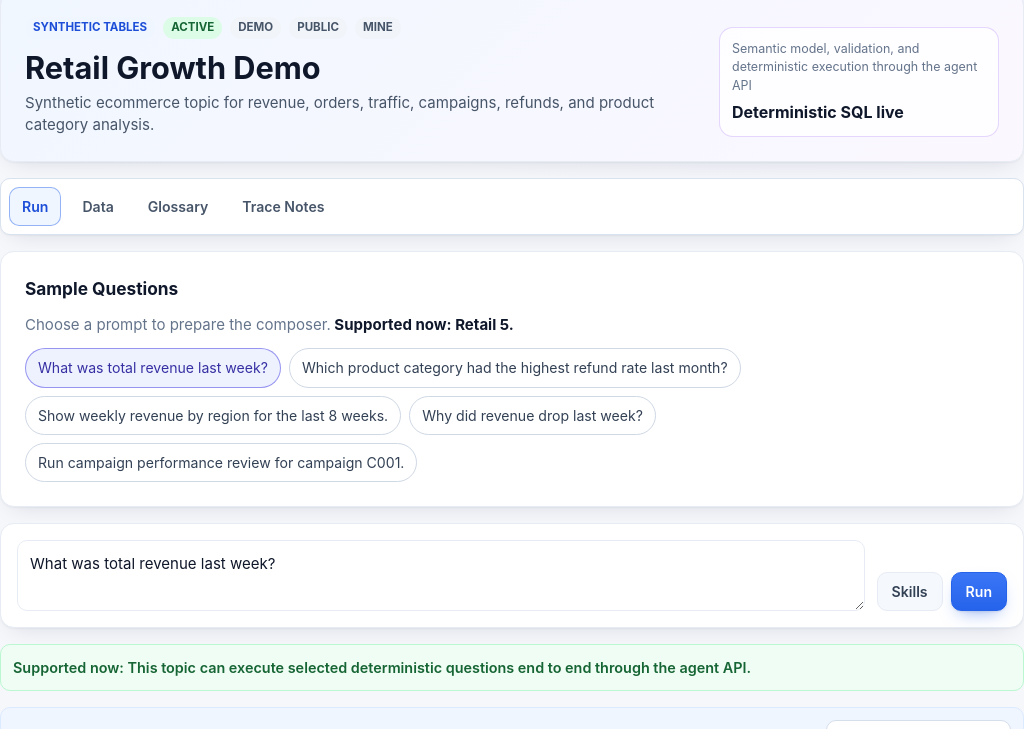
Test: TopicDetailPage › does not retain a result when trailing stream data invalidates completion
This screenshot has width=1024, height=729.
What coordinates should you click on to do the following:
click the button "Run"
I would click on:
 (979, 591)
Its box is [951, 572, 1007, 611].
(page scrolled)
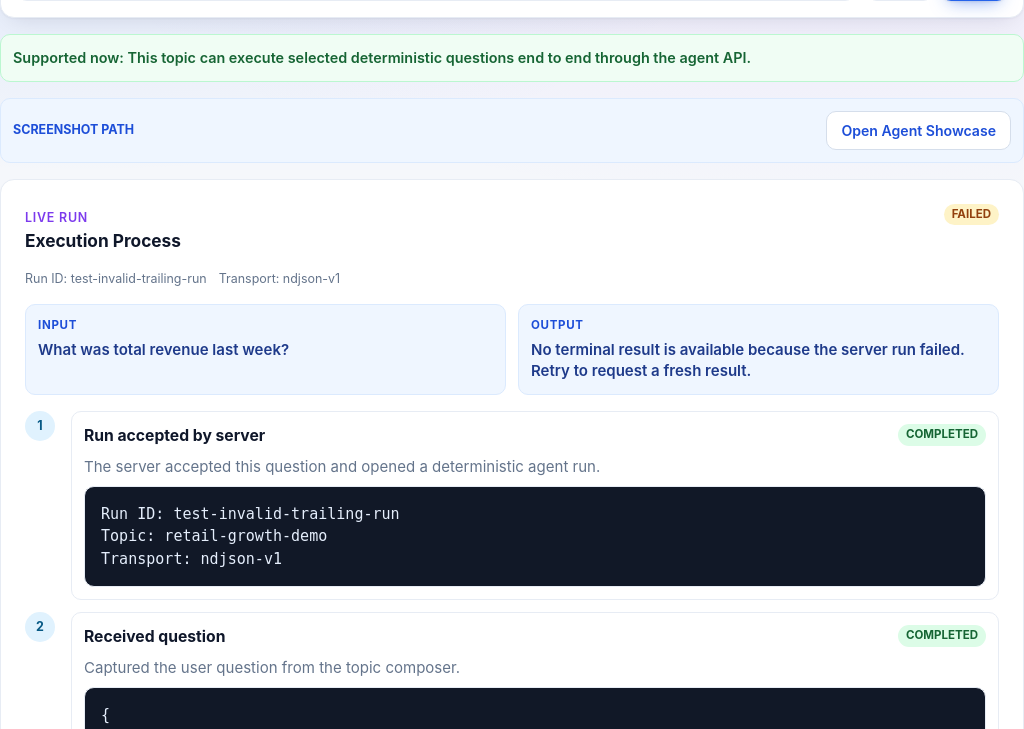
expect the text "No terminal result is available because the server run failed. Retry to request a fresh result." is shown: met, box [531, 340, 965, 380]
